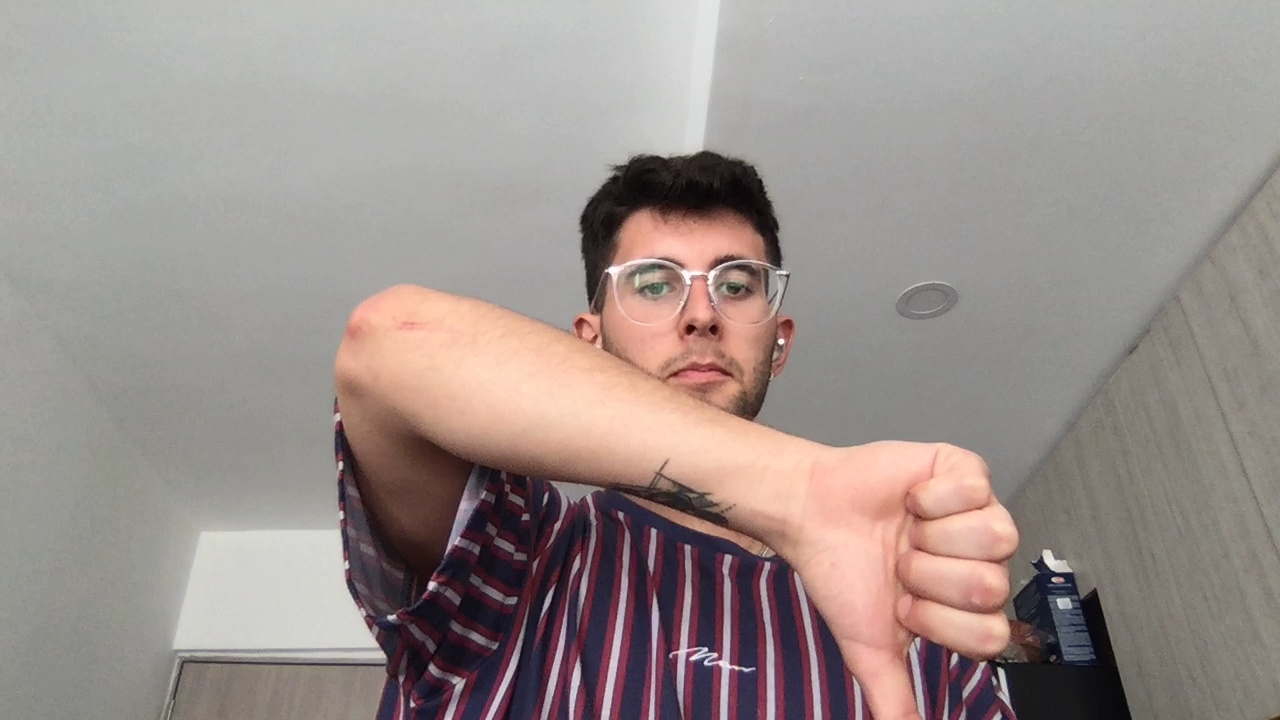bad: (783, 427, 1048, 715)
